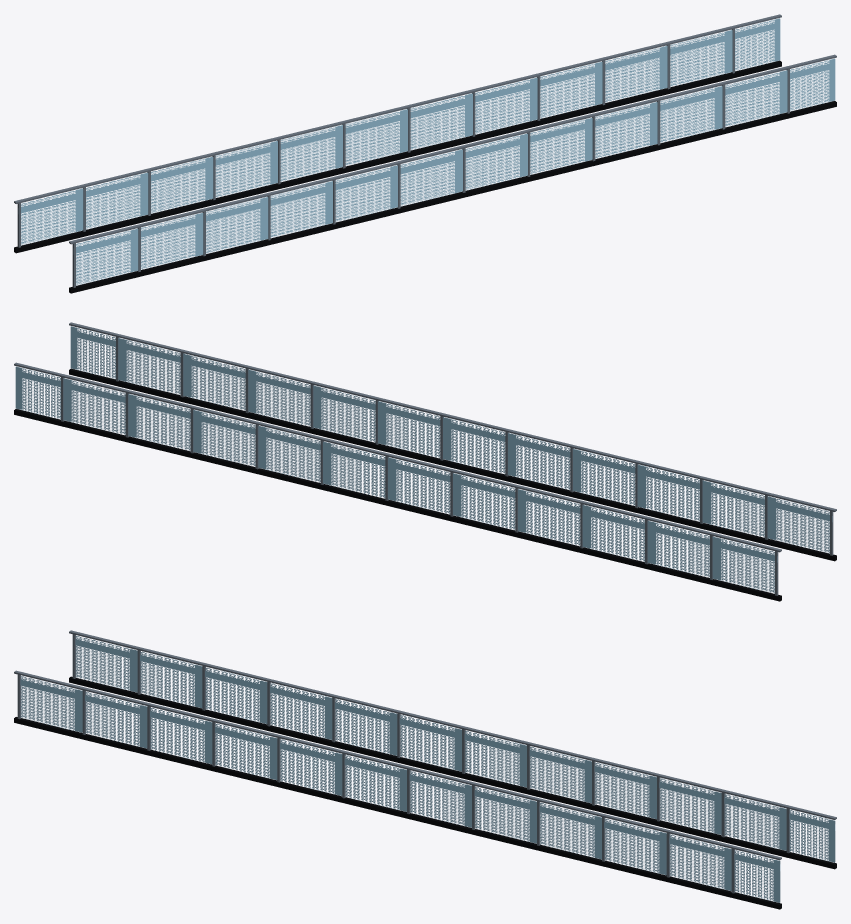
The model's file is tt_bridges_slide_guards.glb.
The picture shows the model from 3 angles, top to bottom: view 1: azimuth 30°, elevation 25°; view 2: azimuth 150°, elevation 25°; view 3: azimuth 330°, elevation 25°; orthographic projection.
Parts seen in each view (by area): view 1: Bridge_Pane_Scissor, Bridge_Kick, Bridge_CapRail, Bridge_Post; view 2: Bridge_Pane_Scissor, Bridge_Kick, Bridge_CapRail, Bridge_Post; view 3: Bridge_Pane_Scissor, Bridge_Kick, Bridge_CapRail, Bridge_Post.
Part boxes in pixels (x1=…): Bridge_Pane_Scissor: x1=18, y1=18, x2=835, y2=285; Bridge_Kick: x1=14, y1=60, x2=836, y2=293; Bridge_CapRail: x1=14, y1=14, x2=836, y2=244; Bridge_Post: x1=17, y1=29, x2=789, y2=287; Bridge_Pane_Scissor: x1=15, y1=326, x2=832, y2=593; Bridge_Kick: x1=14, y1=368, x2=836, y2=601; Bridge_CapRail: x1=14, y1=322, x2=836, y2=552; Bridge_Post: x1=61, y1=337, x2=833, y2=595; Bridge_Pane_Scissor: x1=20, y1=636, x2=835, y2=902; Bridge_Kick: x1=14, y1=676, x2=836, y2=909; Bridge_CapRail: x1=14, y1=630, x2=836, y2=860; Bridge_Post: x1=17, y1=634, x2=789, y2=893.
Size of what is drawn, in the model's own units: 17.7 by 1.12 by 2.28.
Materials: 3 (3 with a texture image).
